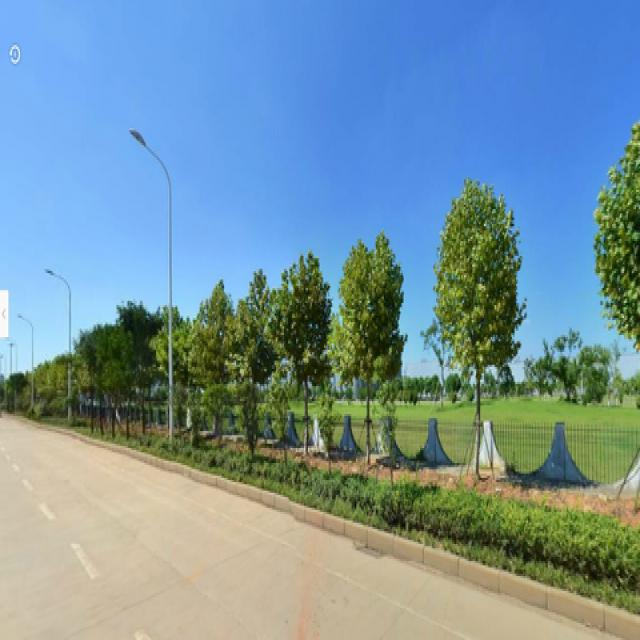meta: (440, 205, 517, 439), (336, 243, 392, 463), (268, 258, 317, 463), (230, 298, 262, 442), (197, 311, 227, 429)
